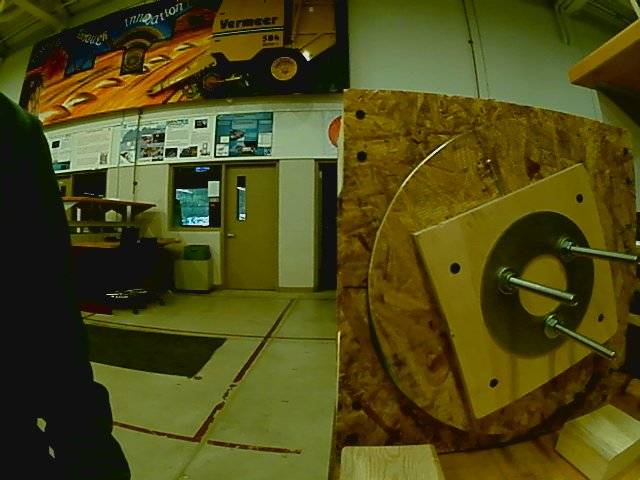bolt: (495, 265, 522, 296), (555, 234, 578, 267), (542, 312, 567, 342)
